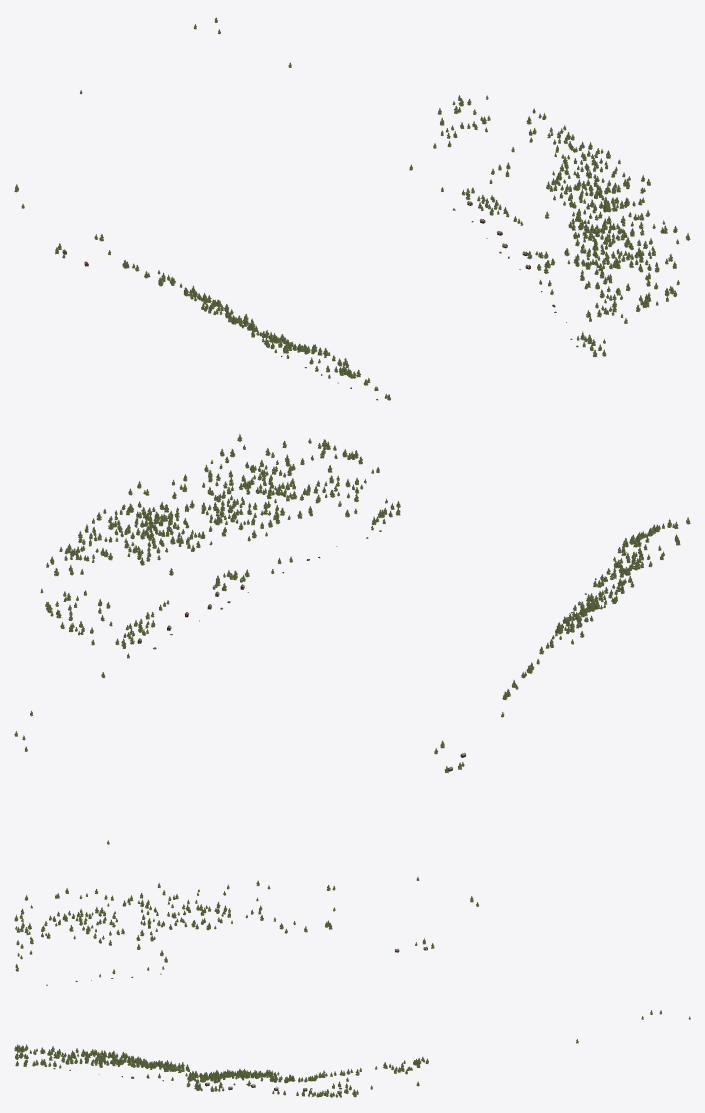
The model's file is fjord-shore-hd.glb.
3 views of the same model, one above another, from view 1: azimuth 30°, elevation 25°; view 2: azimuth 150°, elevation 25°; view 3: azimuth 270°, elevation 25° (orthographic). The views are drawn at different scales.
Parts seen in each view (by area): view 1: pines; view 2: pines; view 3: pines.
Part boxes in pixels (x1,y1,x2,y2): pines: (14,17,690,400); pines: (14,433,690,844); pines: (14,876,690,1097).
Bounding box in the file's own units: 830 × 124 × 1178.
11 materials, 3 textured.
